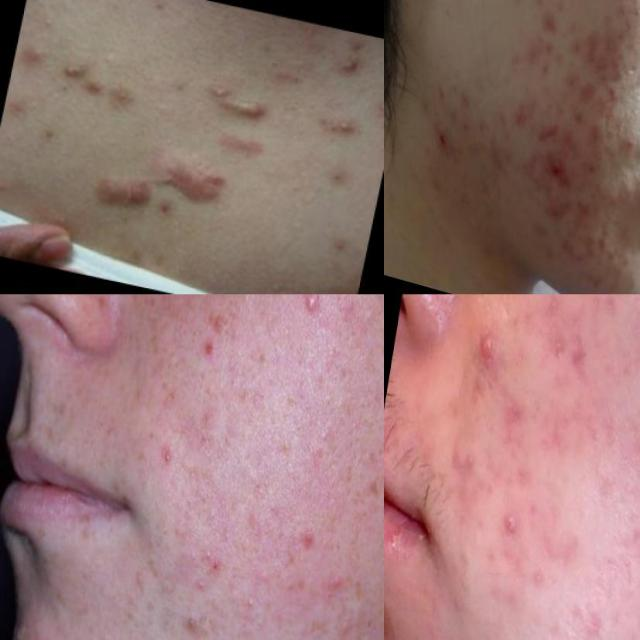6: (155, 149, 235, 209), (88, 167, 156, 219), (223, 95, 275, 124)
8: (574, 20, 636, 92), (461, 313, 510, 373), (194, 298, 245, 344), (167, 592, 210, 640), (539, 143, 572, 189), (318, 566, 348, 613), (508, 92, 538, 134), (556, 232, 588, 262), (584, 232, 610, 264), (585, 119, 608, 149), (603, 189, 622, 211), (622, 132, 639, 154), (572, 107, 587, 126)
9: (294, 294, 334, 345), (495, 506, 523, 542), (58, 54, 91, 82), (328, 112, 358, 138)
blackheads: (543, 325, 599, 386), (493, 389, 531, 431), (534, 196, 570, 226), (526, 126, 554, 151), (534, 15, 560, 37)
dark spot: (326, 36, 374, 91)
